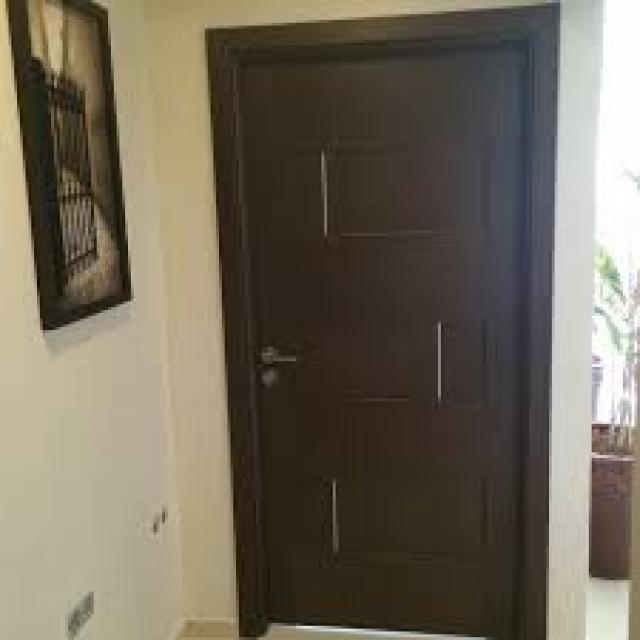Door: (216, 31, 546, 632)
